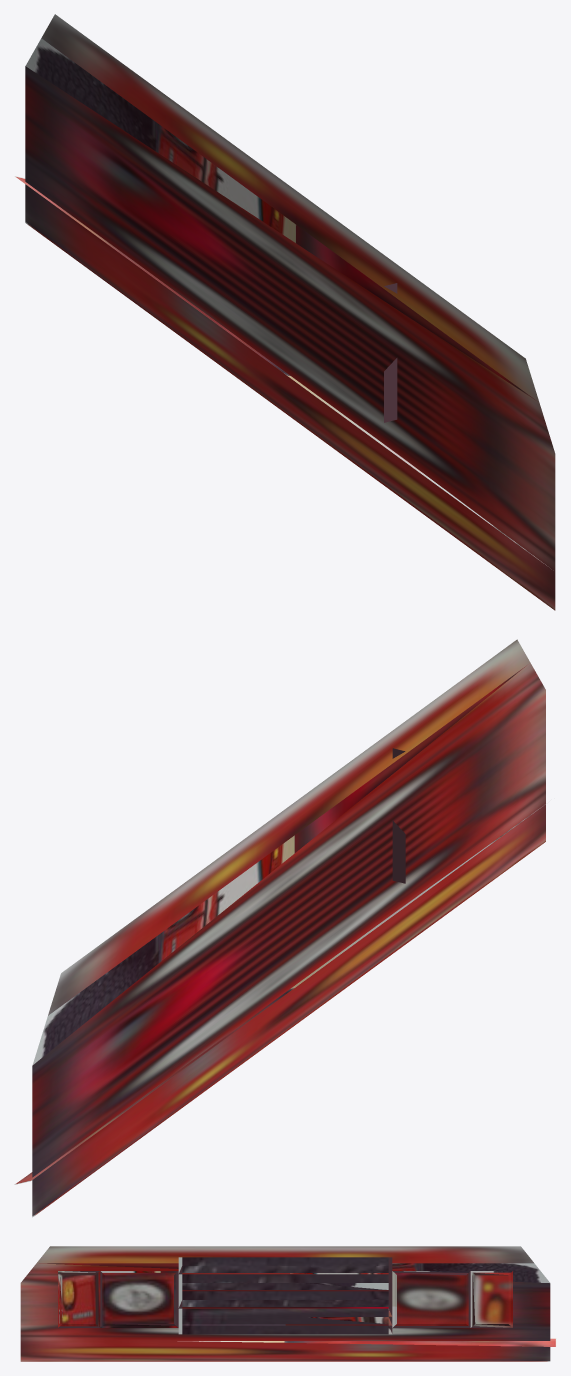
Rendered from carro_parrilla.obj.
3 renders of one model, top to bottom at view 1: azimuth 30°, elevation 25°; view 2: azimuth 150°, elevation 25°; view 3: azimuth 270°, elevation 25°, orthographic. The views are drawn at different scales.
Visible parts, largest first — view 1: Parrilla; view 2: Parrilla; view 3: Parrilla.
Part boxes in pixels (x1,y1,x2,y2): Parrilla: (14,14,555,610); Parrilla: (14,639,545,1217); Parrilla: (20,1246,556,1361).
Size of the model in its own units: 0.0548 by 0.4649 by 1.98.
